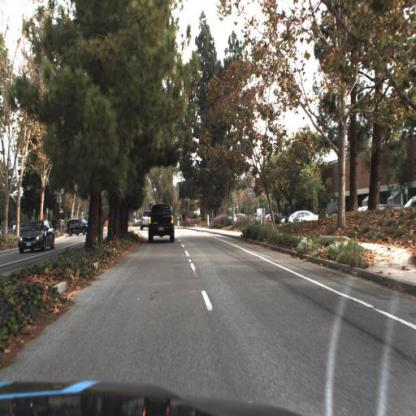car: (18, 219, 58, 256), (148, 202, 178, 244), (283, 207, 323, 227), (66, 217, 92, 238), (68, 220, 90, 238), (140, 209, 154, 230)
